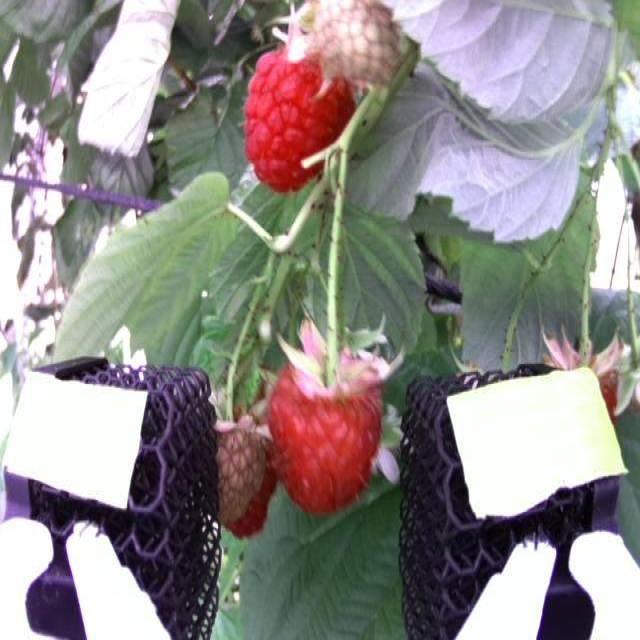Riped berries: (271, 338, 393, 515), (245, 35, 361, 192)
